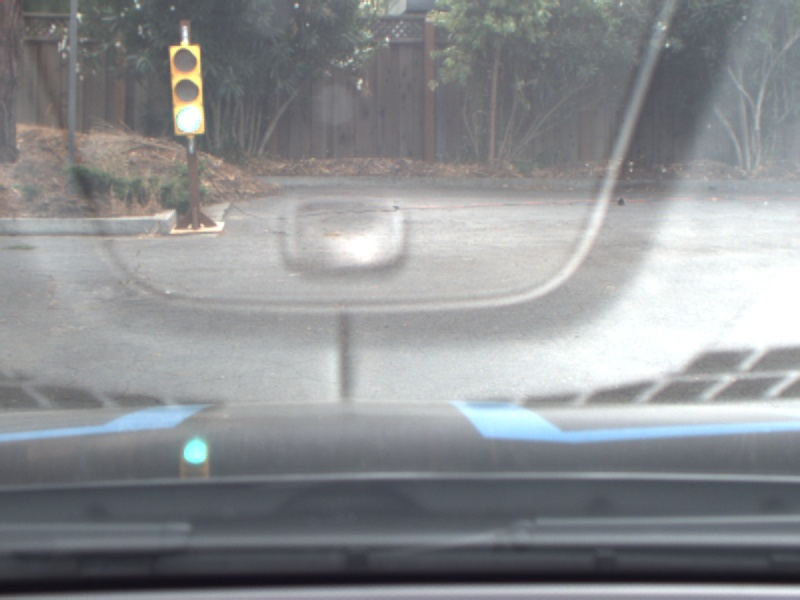green: (167, 42, 210, 135)
